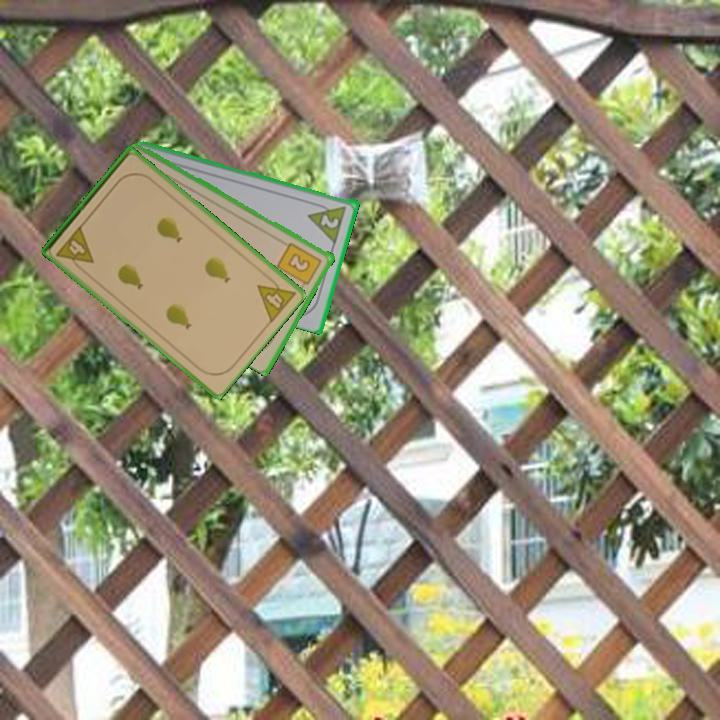2b: (274, 239, 325, 292)
2p: (317, 210, 342, 231)
4p: (253, 270, 298, 326), (53, 222, 97, 275)
